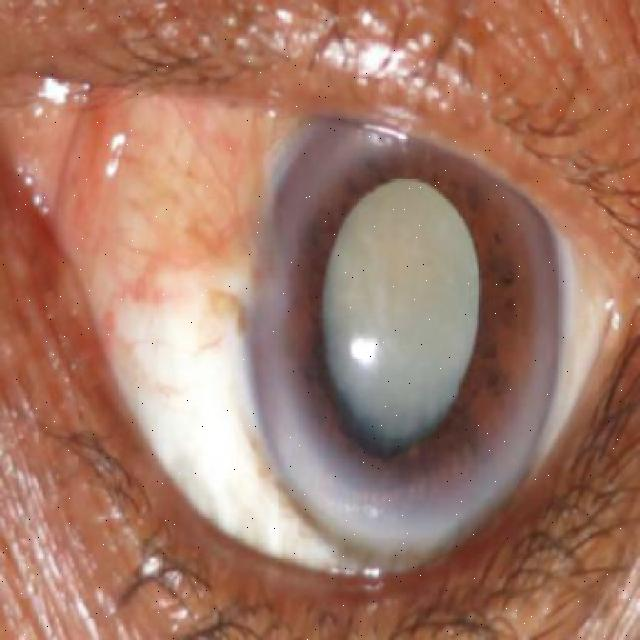Cataract: (241, 78, 571, 575)
